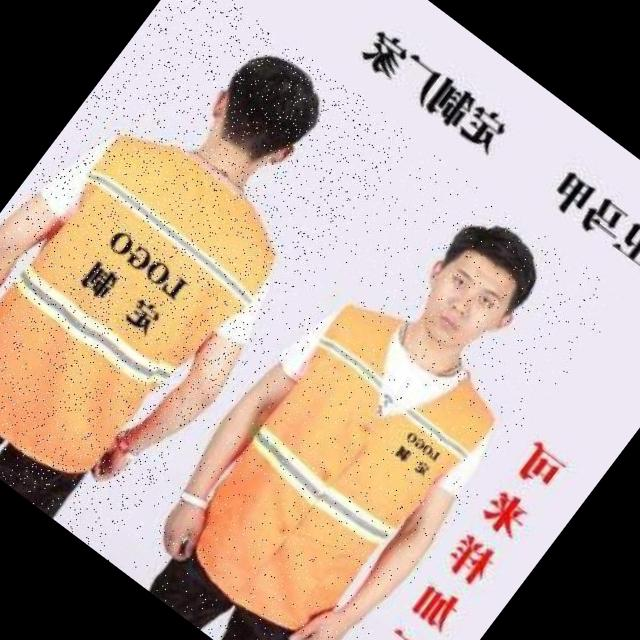safety_vest: (0, 101, 306, 515), (161, 287, 508, 640)
vehicle: (106, 141, 627, 640), (0, 0, 417, 556)
